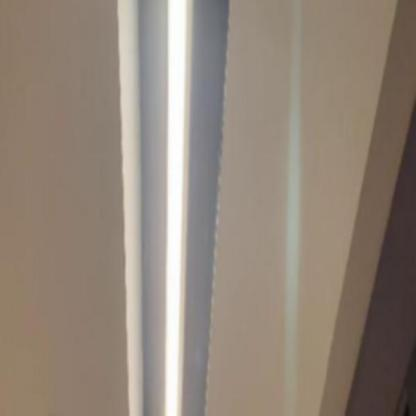light_on: (146, 0, 212, 415)
